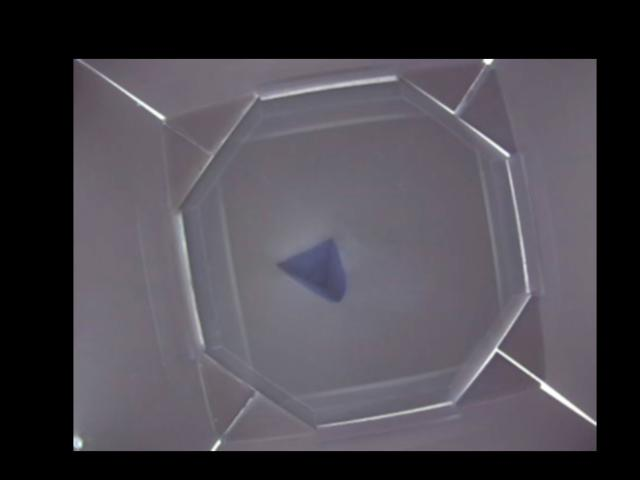Mooli: (277, 238, 344, 304)
